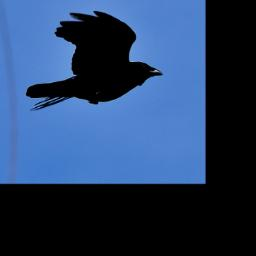Crow: (25, 11, 163, 113)
